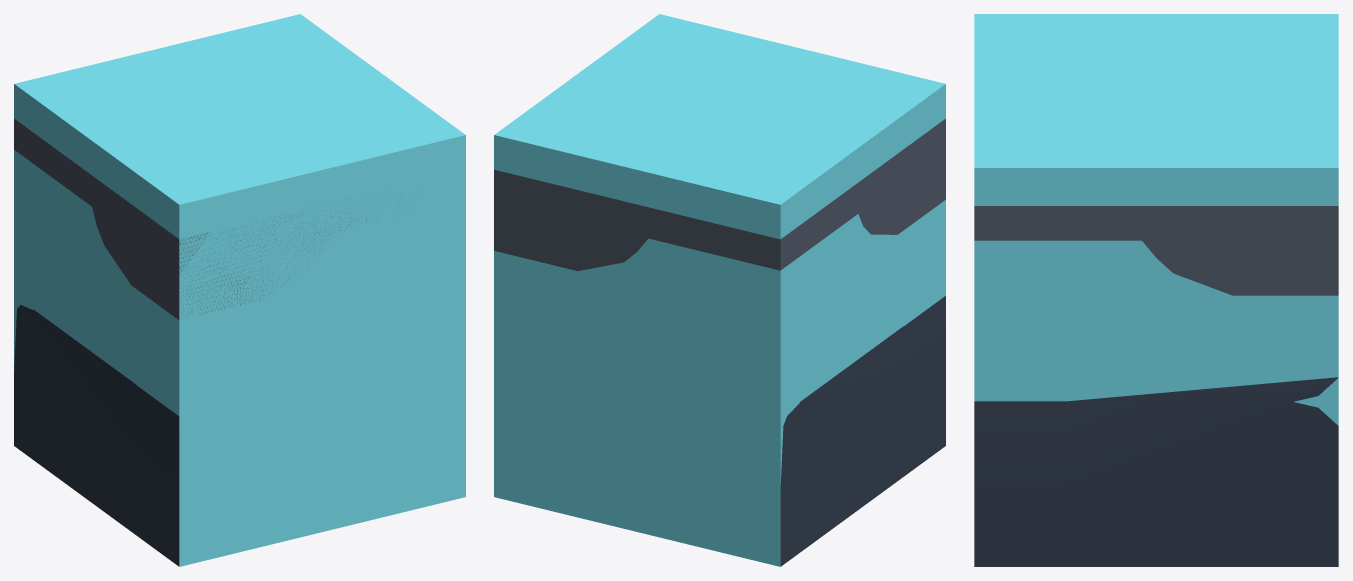
Rendered from PBOX22_MudFLA_02.FBX.
3 renders of one model, left to right at view 1: azimuth 30°, elevation 25°; view 2: azimuth 150°, elevation 25°; view 3: azimuth 270°, elevation 25°, orthographic. The views are drawn at different scales.
Visible parts, largest first — view 1: PBOX22_MudFLA_02, PBOX22_SUB_TAB_FlA_005, PBOX22_SUB_MudFlA_004; view 2: PBOX22_MudFLA_02, PBOX22_SUB_TAB_FlA_005, PBOX22_SUB_MudFlA_004; view 3: PBOX22_MudFLA_02, PBOX22_SUB_TAB_FlA_005, PBOX22_SUB_MudFlA_004.
Boxes of the visible parts, x1,y1,x2,y2 form: PBOX22_MudFLA_02: [14, 14, 465, 566]; PBOX22_SUB_TAB_FlA_005: [14, 305, 179, 566]; PBOX22_SUB_MudFlA_004: [14, 118, 366, 319]; PBOX22_MudFLA_02: [494, 14, 945, 566]; PBOX22_SUB_TAB_FlA_005: [780, 296, 945, 566]; PBOX22_SUB_MudFlA_004: [494, 118, 945, 270]; PBOX22_MudFLA_02: [974, 14, 1338, 425]; PBOX22_SUB_TAB_FlA_005: [974, 377, 1338, 566]; PBOX22_SUB_MudFlA_004: [974, 206, 1338, 295].
Bounding box in the file's own units: 12 × 14.5 × 12.
